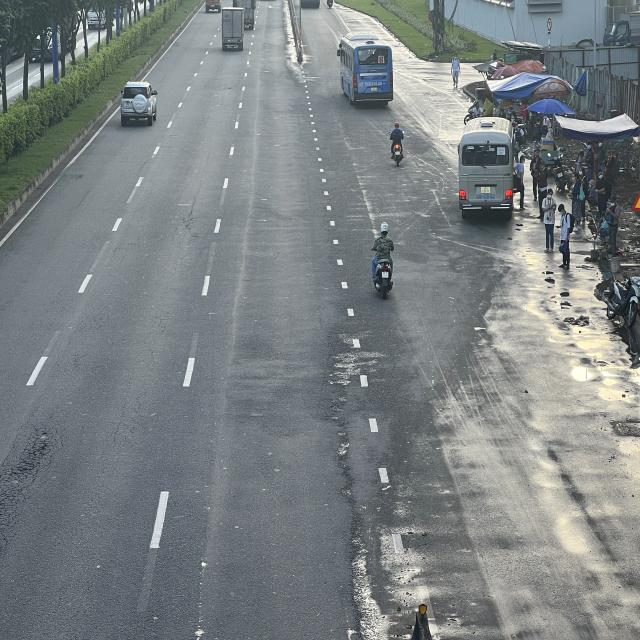car: (122, 80, 159, 124)
coach: (458, 118, 520, 218), (337, 33, 394, 106)
truck: (222, 7, 246, 51)
